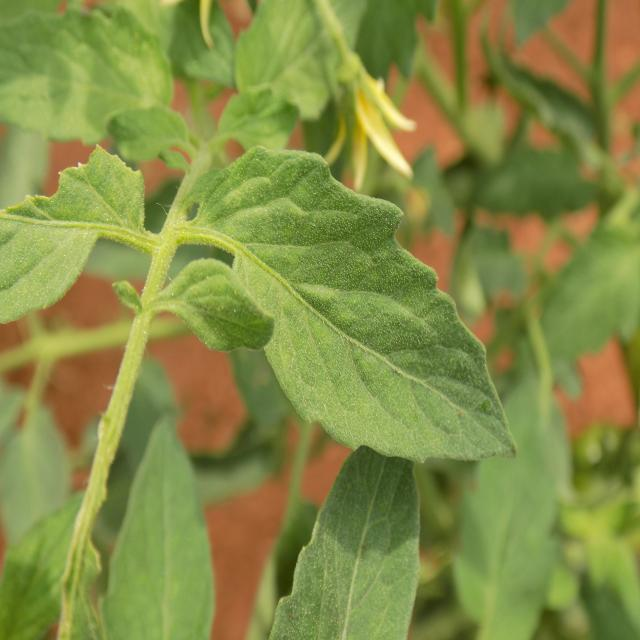tomato_healthy: (195, 148, 512, 464)
